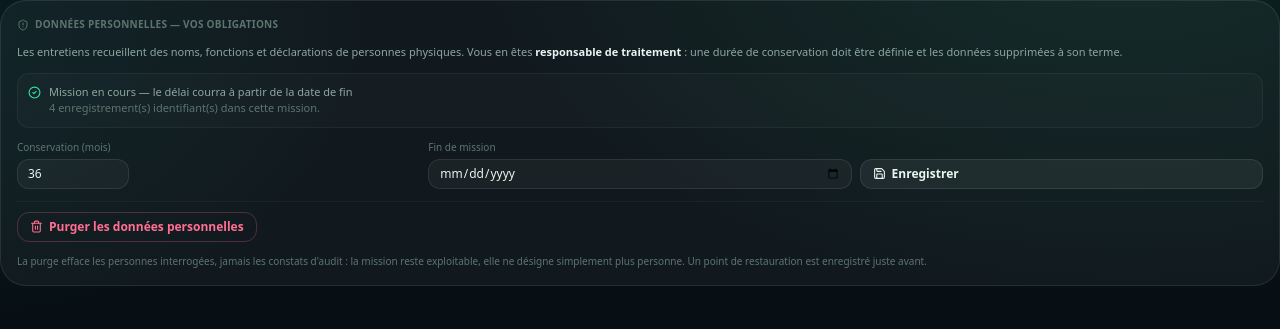
RgpdPanel › remonte l'erreur de l'API sans masquer l'échec
Click the button "Purger les données personnelles" at (137, 226), box [17, 212, 257, 242]
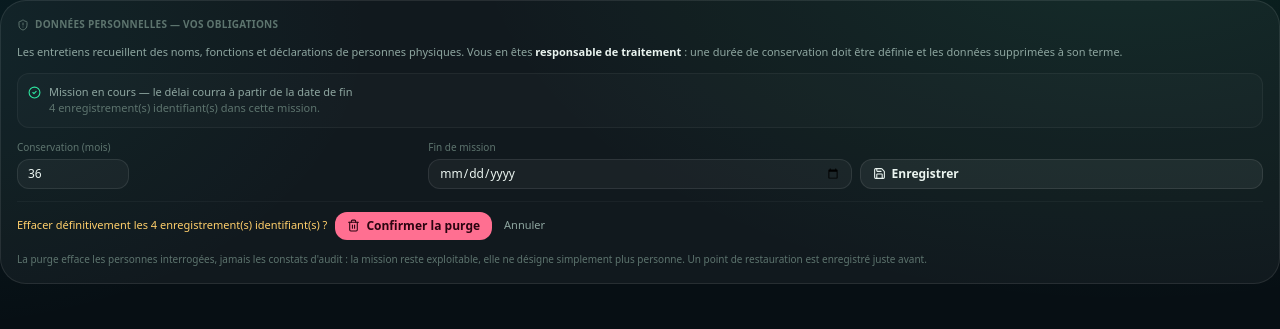
Click the button "Confirmer la purge" at (414, 226), box [335, 212, 492, 240]
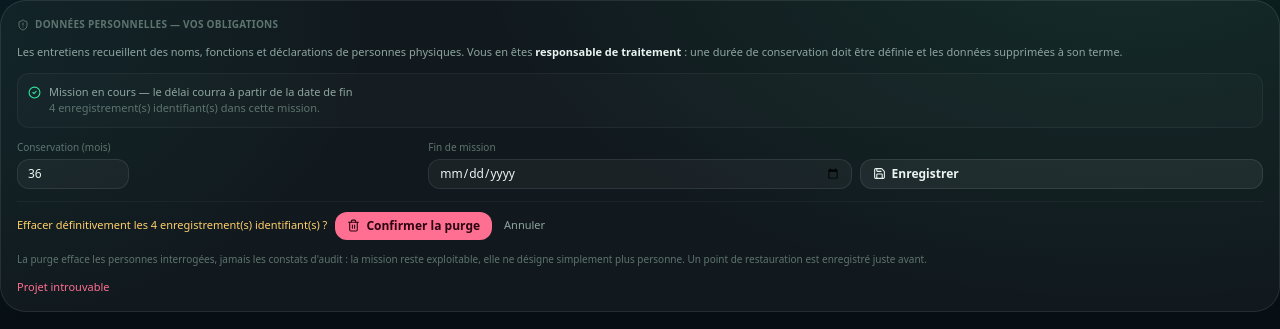
Expected: the text "Projet introuvable" is shown, [17, 278, 110, 294]
